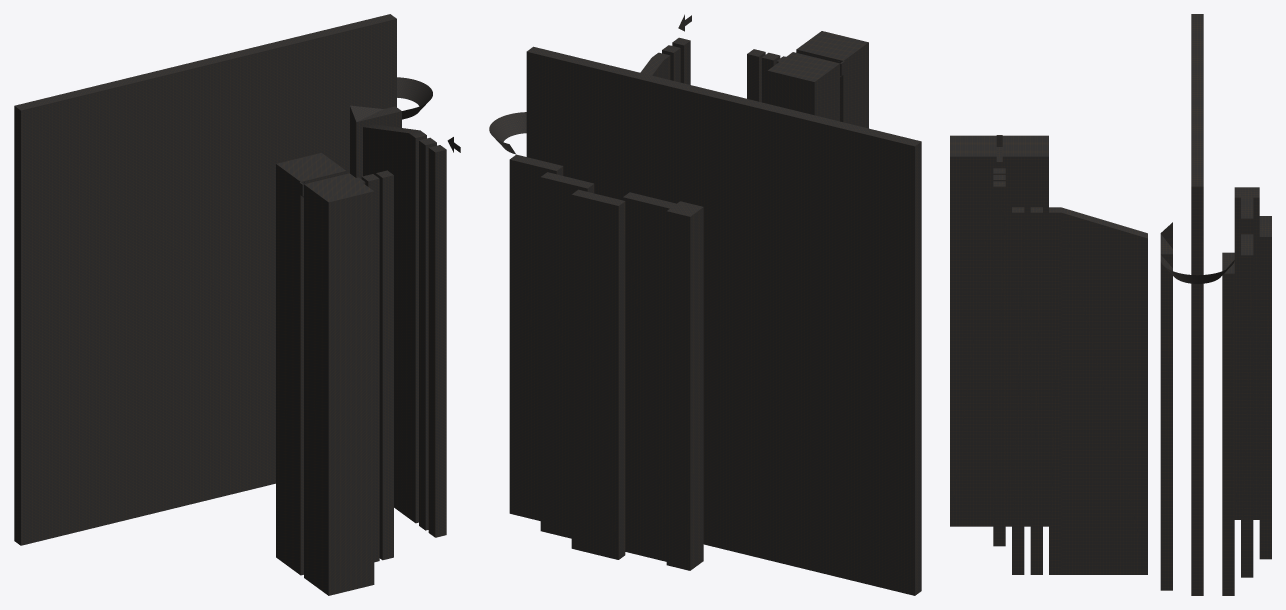
The model's file is reflectionTest.obj.
3 views of the same model, side by side, from view 1: azimuth 30°, elevation 25°; view 2: azimuth 150°, elevation 25°; view 3: azimuth 270°, elevation 25° (orthographic). The views are drawn at different scales.
Parts seen in each view (by area): view 1: map; view 2: map; view 3: map.
Part boxes in pixels (x1,y1,x2,y2): map: (14,14,460,595); map: (489,14,921,595); map: (950,14,1271,595).
Size of the model in its own units: 468 by 475 by 338.
Materials: 1 (1 with a texture image).
